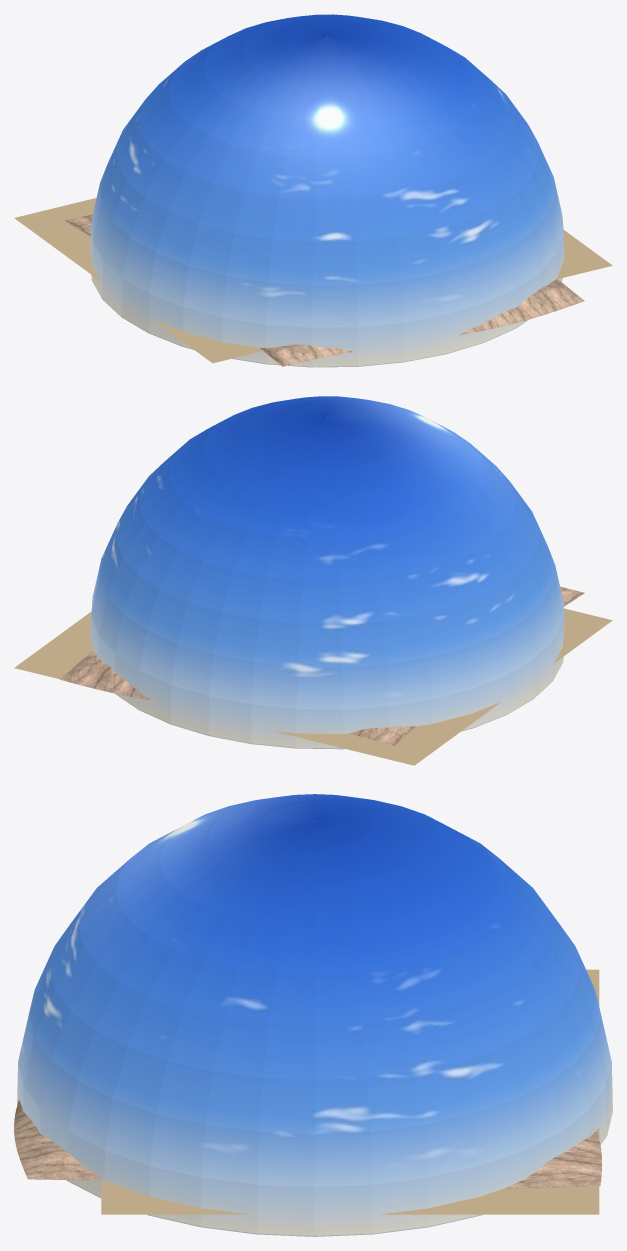
Rendered from lugar-luxor-ciudad.glb.
The picture shows the model from 3 angles, top to bottom: view 1: azimuth 30°, elevation 25°; view 2: azimuth 150°, elevation 25°; view 3: azimuth 270°, elevation 25°; orthographic projection. The views are drawn at different scales.
Visible parts, largest first — view 1: planoC, vertT; view 2: planoC, vertT; view 3: planoC, vertT.
Part boxes in pixels (<box>): planoC: <box>14,14,612,367</box>; vertT: <box>64,214,584,366</box>; planoC: <box>14,396,612,765</box>; vertT: <box>60,586,584,745</box>; planoC: <box>17,794,612,1236</box>; vertT: <box>14,1100,601,1189</box>.
Size of the model in its own units: 6584 by 3530 by 6616.
Materials: 16 (12 with a texture image).
